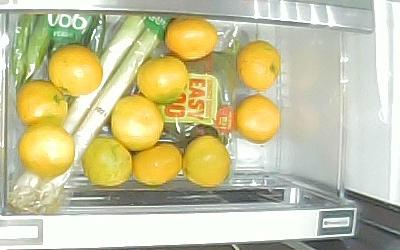tangerine: (111, 94, 167, 152), (19, 123, 75, 177), (48, 44, 103, 96), (81, 135, 133, 186), (137, 56, 189, 104), (182, 136, 230, 186), (164, 16, 218, 60), (17, 80, 67, 126), (235, 41, 281, 91), (132, 142, 182, 186), (237, 95, 280, 144)
